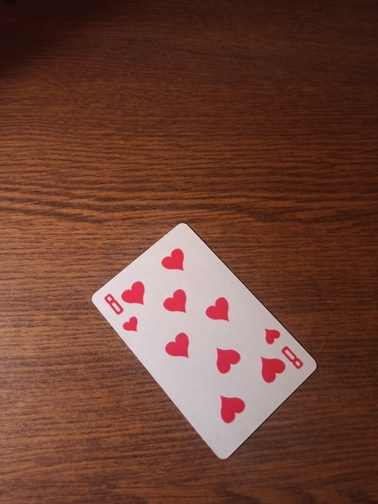eighthearts: (91, 221, 319, 462)
